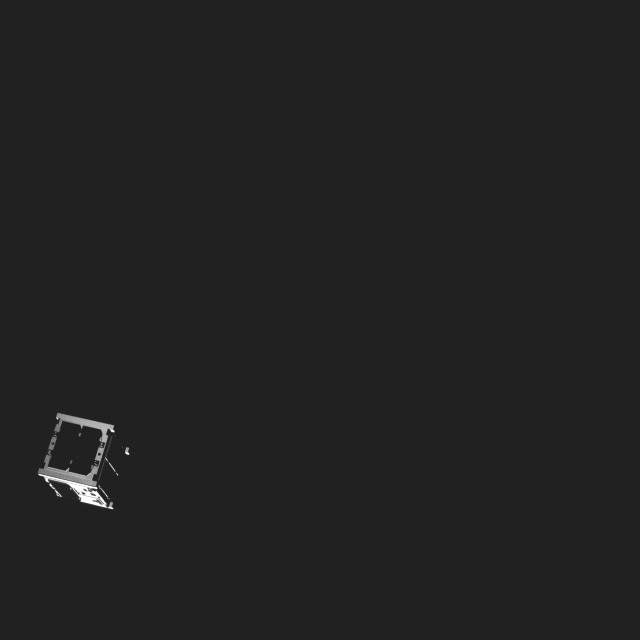medium_debris: (27, 410, 133, 518)
